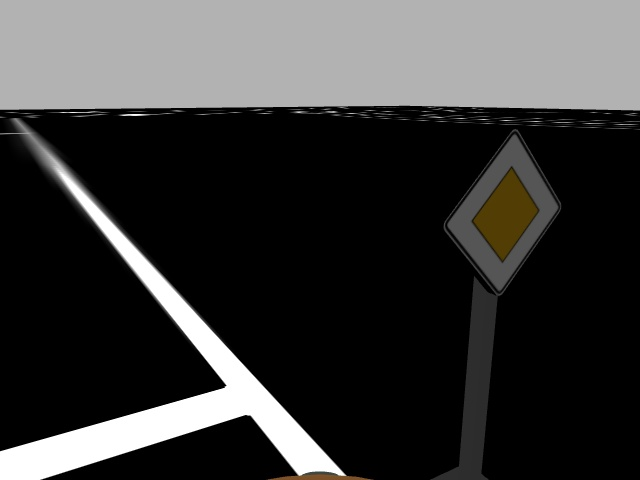priority: (441, 126, 563, 296)
